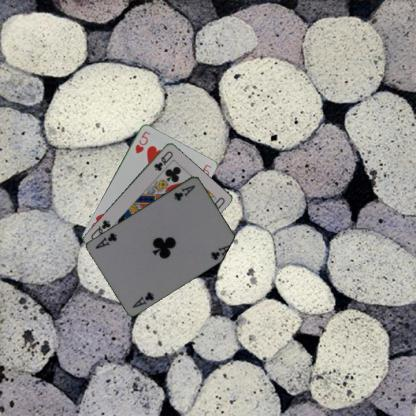5h: (132, 128, 152, 154)
Ac: (130, 289, 156, 309), (172, 182, 196, 202)
Qc: (152, 148, 174, 172)
